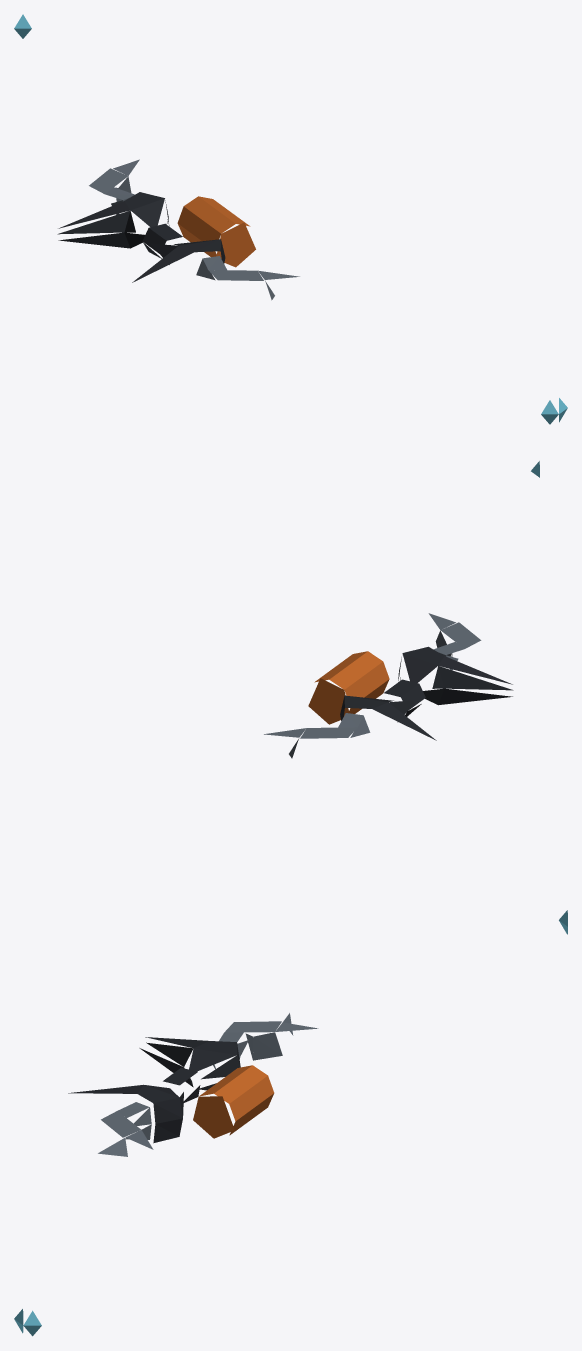
The model's file is energy-bow.lod.glb.
3 renders of one model, top to bottom at view 1: azimuth 30°, elevation 25°; view 2: azimuth 150°, elevation 25°; view 3: azimuth 330°, elevation 25°, orthographic. The views are drawn at different scales.
Visible parts, largest first — view 1: m; view 2: m; view 3: m.
Part boxes in pixels (x1,y1,x2,y2): m: [14, 14, 567, 424]; m: [264, 461, 539, 758]; m: [14, 910, 567, 1336].
Size of the model in its own units: 0.1546 by 0.0309 by 0.6826.
